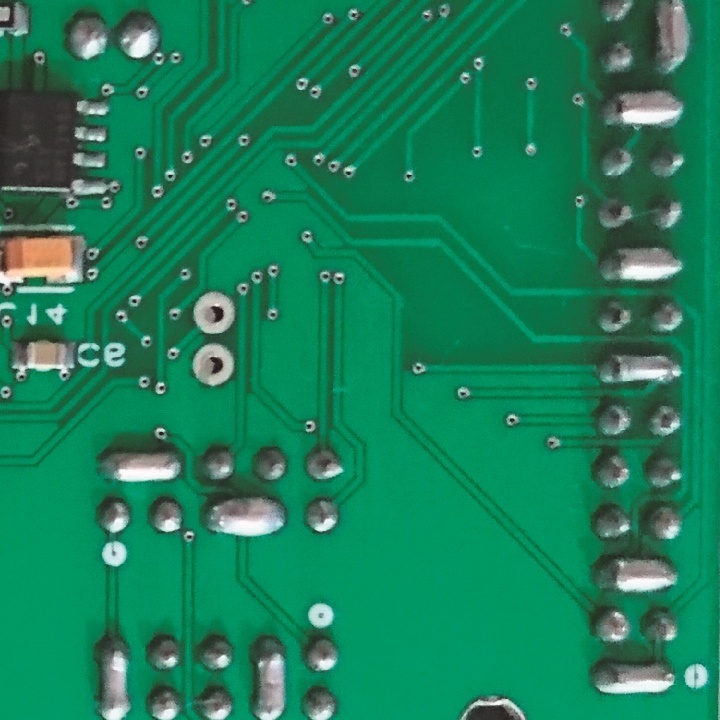F: (190, 340, 236, 392), (193, 289, 236, 336)
P: (589, 547, 682, 600), (204, 492, 290, 543), (90, 629, 136, 720), (584, 656, 679, 699), (598, 87, 690, 131), (598, 242, 690, 286), (247, 629, 290, 720), (650, 1, 699, 80), (595, 350, 690, 389), (96, 449, 187, 486)
